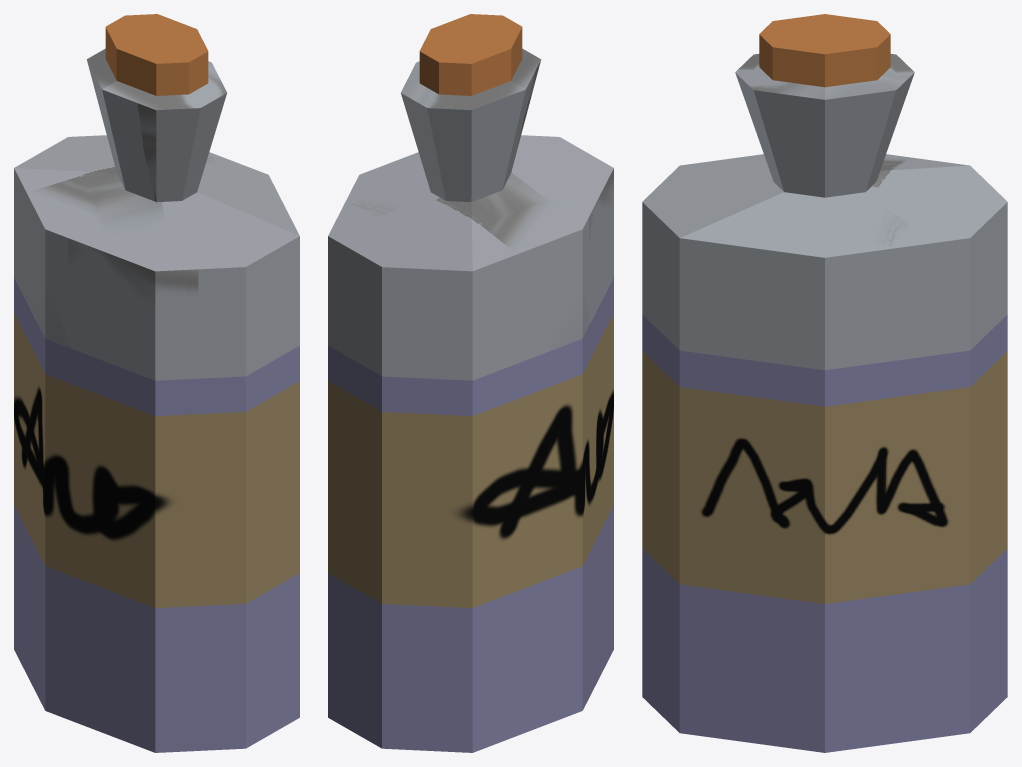
The model's file is ConcoctionBottle.glb.
3 views of the same model, side by side, from view 1: azimuth 30°, elevation 25°; view 2: azimuth 150°, elevation 25°; view 3: azimuth 270°, elevation 25° (orthographic). The views are drawn at different scales.
Visible parts, largest first — view 1: Concoction; view 2: Concoction; view 3: Concoction.
Part boxes in pixels (x1,y1,x2,y2): Concoction: (14, 14, 299, 752); Concoction: (328, 14, 613, 752); Concoction: (642, 14, 1007, 752).
Bounding box in the file's own units: 0.3539 × 0.9757 × 0.4877.
4 materials, 2 textured.
